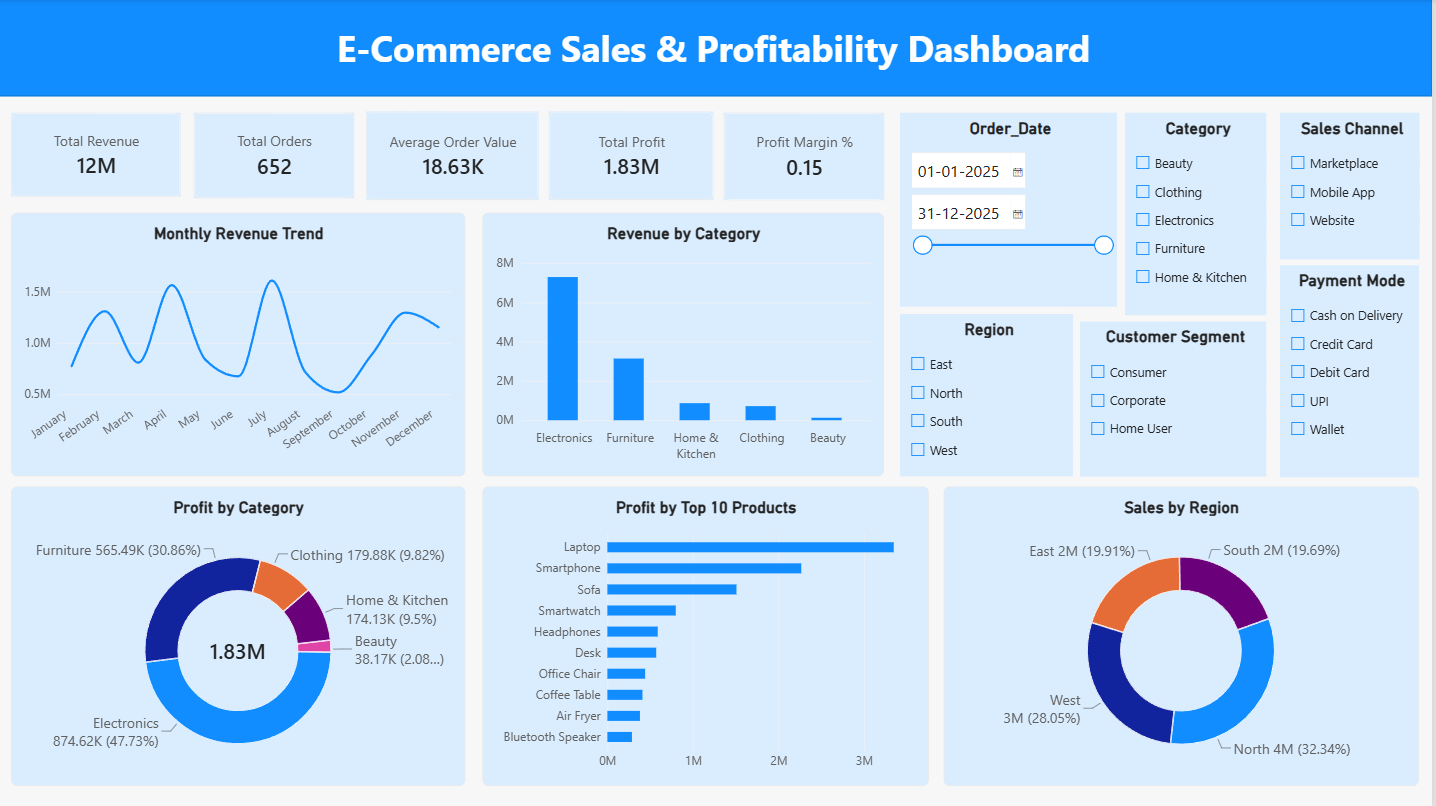

What the dashboard file says about the page in this screenshot:
{"tool":"powerbi","page":{"name":"Executive Overview","canvas":[1920,1080],"ordinal":0},"visuals":[{"type":"cardVisual","fields":{"Data":["Raw_Data.Total Revenue"]},"box":[22,152,226,112],"z":0},{"type":"cardVisual","fields":{"Data":["Raw_Data.Total Profit"]},"box":[740,150,220,118],"z":1000},{"type":"cardVisual","fields":{"Data":["Raw_Data.Total Orders"]},"box":[265.7,151.4,214.3,114.3],"z":2000},{"type":"cardVisual","fields":{"Data":["Raw_Data.Average Order Value"]},"box":[496,150,230,118],"z":3000},{"type":"cardVisual","fields":{"Data":["Raw_Data.Profit Margin %"]},"box":[974.3,151.4,214.3,117.1],"z":4000},{"type":"lineChart","title":"Monthly Revenue Trend","fields":{"Category":["Raw_Data.Order_Date.Variation.Date Hierarchy.Month"],"Y":["Raw_Data.Total Revenue"]},"box":[22,286,606,352],"z":5000},{"type":"clusteredColumnChart","title":"Revenue by Category","fields":{"Category":["Raw_Data.Category"],"Y":["Raw_Data.Total Revenue"]},"box":[652,286,536,352],"z":6000},{"type":"donutChart","title":"Profit by Category","fields":{"Category":["Raw_Data.Category"],"Y":["Raw_Data.Total Profit"]},"box":[22,652,606,400],"z":7000},{"type":"barChart","title":"Profit by Top 10 Products","fields":{"Category":["Raw_Data.Product"],"Y":["Raw_Data.Total Revenue"]},"box":[651.4,651.4,596,400],"z":8000},{"type":"pieChart","title":"Sales by Region","fields":{"Category":["Raw_Data.Region"],"Y":["Raw_Data.Total Revenue"]},"box":[1268,652,634,400],"z":9000},{"type":"slicer","title":"Order_Date","fields":{"Values":["Raw_Data.Order_Date"]},"box":[1208.6,151.4,288.6,258.6],"z":10000},{"type":"slicer","title":"Category","fields":{"Values":["Raw_Data.Category"]},"box":[1510,151.4,188.6,270],"z":11000},{"type":"slicer","title":"Region","fields":{"Values":["Raw_Data.Region"]},"box":[1208.6,421.4,231.4,217.1],"z":12000},{"type":"slicer","title":"Customer Segment","fields":{"Values":["Raw_Data.Customer_Segment"]},"box":[1450,431.4,248.6,207.1],"z":13000},{"type":"slicer","title":"Sales Channel","fields":{"Values":["Raw_Data.Sales_Channel"]},"box":[1716,152,186,196],"z":14000},{"type":"slicer","title":"Payment Mode","fields":{"Values":["Raw_Data.Payment_Mode"]},"box":[1715.7,355.7,185.7,282.9],"z":15000},{"type":"shape","box":[0,0,1920,130],"z":16000}]}

Visuals, with their boxes in screenshot pixels (x1, y1, x2, y2), scaled from the page's 1920x1080 canvas onto the 1436x806 screenshot:
cardVisual - Raw_Data.Total Revenue: <bbox>16, 113, 185, 197</bbox>
cardVisual - Raw_Data.Total Profit: <bbox>553, 112, 718, 200</bbox>
cardVisual - Raw_Data.Total Orders: <bbox>199, 113, 359, 198</bbox>
cardVisual - Raw_Data.Average Order Value: <bbox>371, 112, 543, 200</bbox>
cardVisual - Raw_Data.Profit Margin %: <bbox>729, 113, 889, 200</bbox>
"Monthly Revenue Trend" lineChart: <bbox>16, 213, 470, 476</bbox>
"Revenue by Category" clusteredColumnChart: <bbox>488, 213, 889, 476</bbox>
"Profit by Category" donutChart: <bbox>16, 487, 470, 785</bbox>
"Profit by Top 10 Products" barChart: <bbox>487, 486, 933, 785</bbox>
"Sales by Region" pieChart: <bbox>948, 487, 1423, 785</bbox>
"Order_Date" slicer: <bbox>904, 113, 1120, 306</bbox>
"Category" slicer: <bbox>1129, 113, 1270, 314</bbox>
"Region" slicer: <bbox>904, 314, 1077, 477</bbox>
"Customer Segment" slicer: <bbox>1084, 322, 1270, 477</bbox>
"Sales Channel" slicer: <bbox>1283, 113, 1423, 260</bbox>
"Payment Mode" slicer: <bbox>1283, 265, 1422, 477</bbox>
shape: <bbox>0, 0, 1435, 97</bbox>
